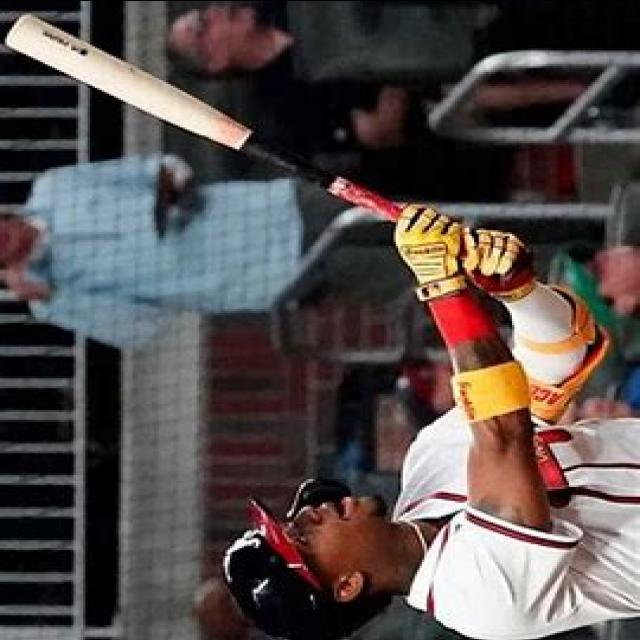bat: (1, 7, 420, 229)
